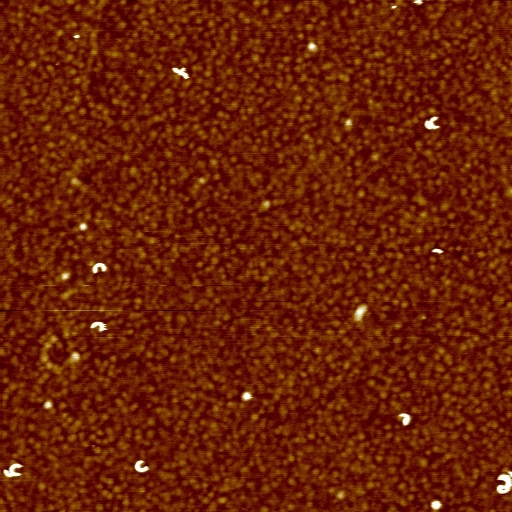-1: (351, 299, 370, 325), (170, 63, 192, 82), (431, 497, 445, 510), (244, 390, 255, 403), (306, 42, 319, 53), (432, 247, 444, 256), (72, 33, 82, 43)
1/4: (395, 410, 415, 427)
2/4: (4, 463, 26, 480), (423, 115, 441, 131), (135, 459, 152, 474), (90, 320, 107, 333), (90, 263, 109, 273)
3/4: (494, 472, 511, 494)
